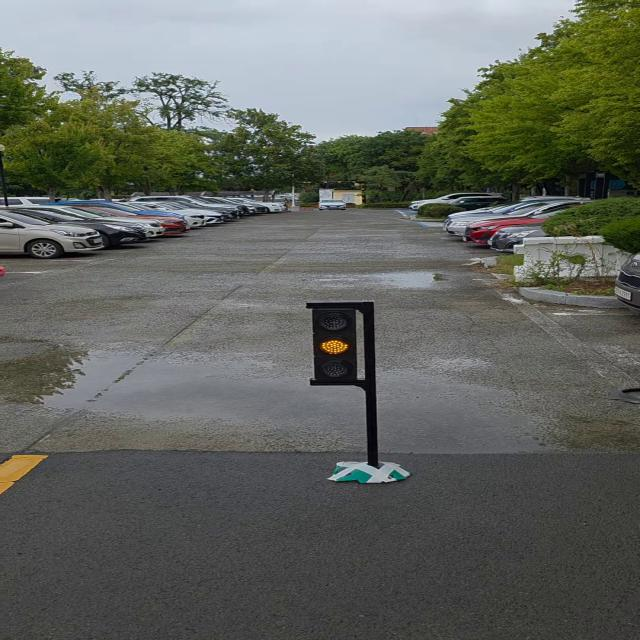yellow: (314, 305, 363, 382)
